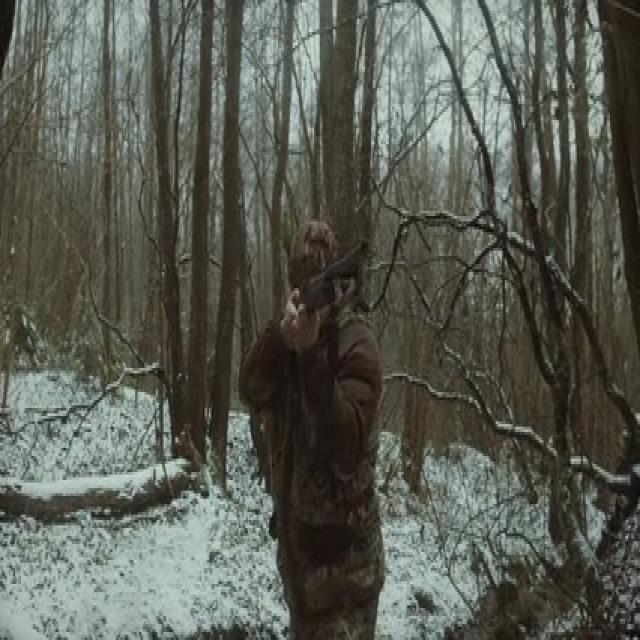Gun_Holder: (253, 245, 380, 329)
Person: (247, 224, 387, 639)
